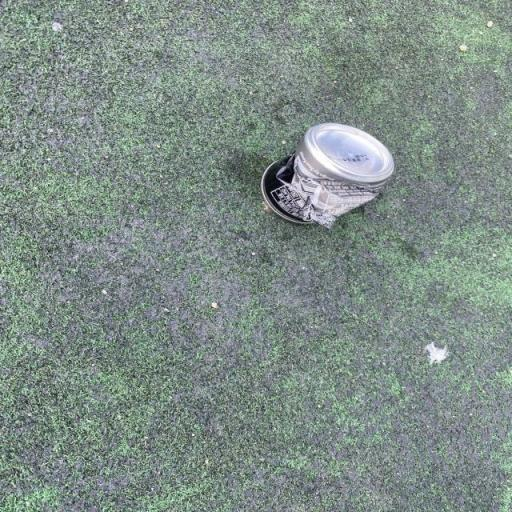metal: (248, 106, 408, 238)
